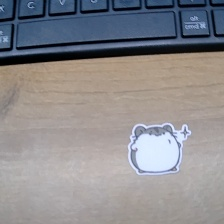mouse: (125, 122, 192, 176)
